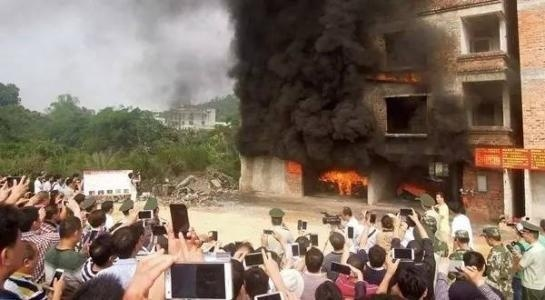fire: (320, 167, 367, 194)
